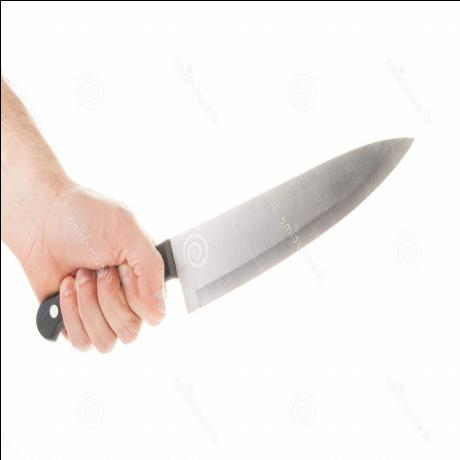1: (0, 61, 168, 354)
weapon: (168, 130, 418, 322)
